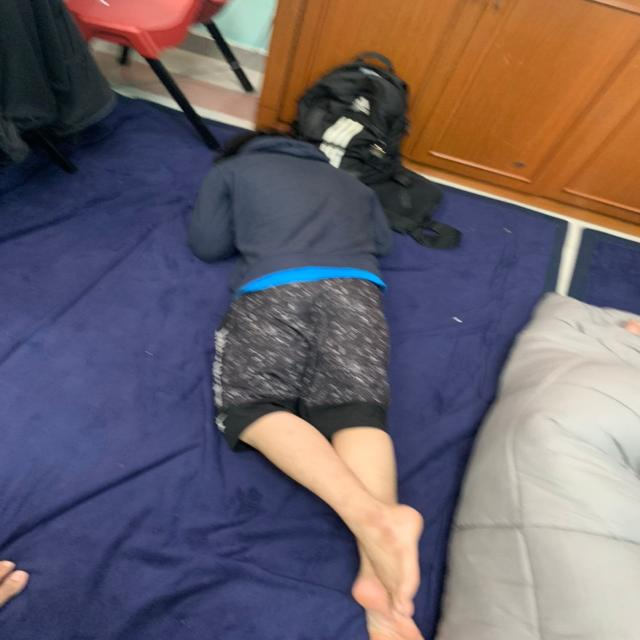Fall-Detected: (180, 124, 423, 638)
